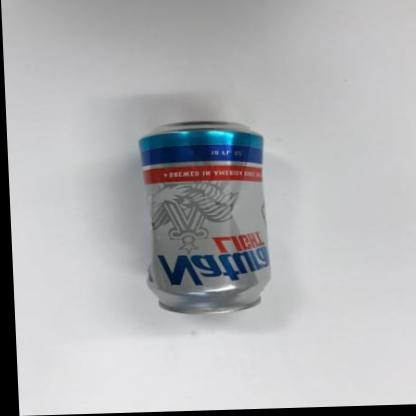trash: (139, 122, 269, 312)
